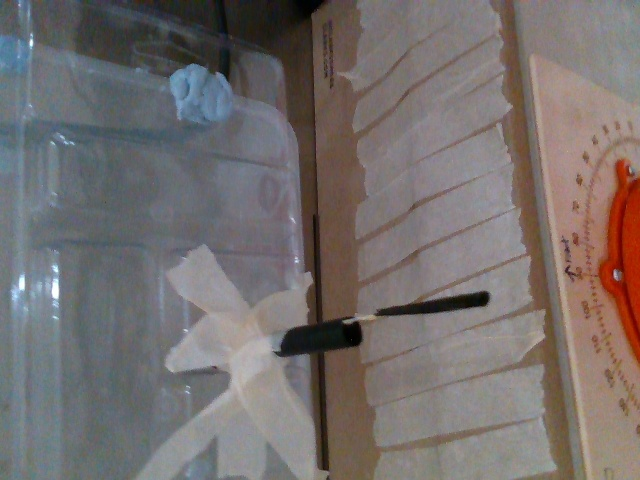test_strip: (343, 288, 487, 324)
